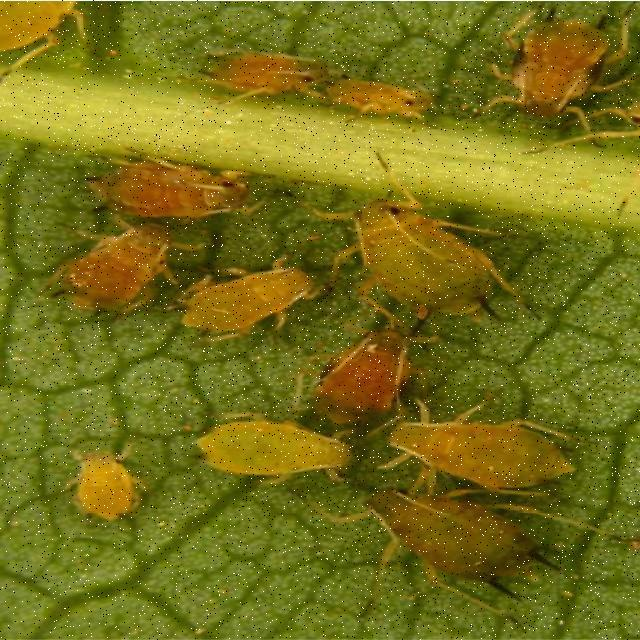Aphids: (297, 129, 528, 339), (360, 461, 567, 608), (334, 394, 587, 510), (30, 193, 208, 336), (153, 397, 374, 507), (61, 112, 267, 230), (151, 230, 334, 343), (473, 6, 640, 125), (309, 304, 439, 426), (296, 60, 455, 153), (196, 31, 335, 136), (21, 423, 159, 525), (1, 1, 120, 103)
